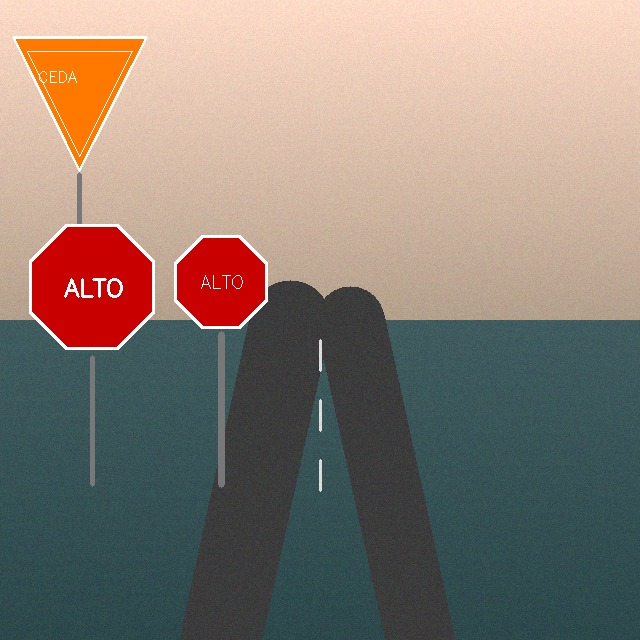alto: (23, 218, 162, 357), (170, 231, 273, 334)
ceda_el_paso: (9, 33, 150, 174)
